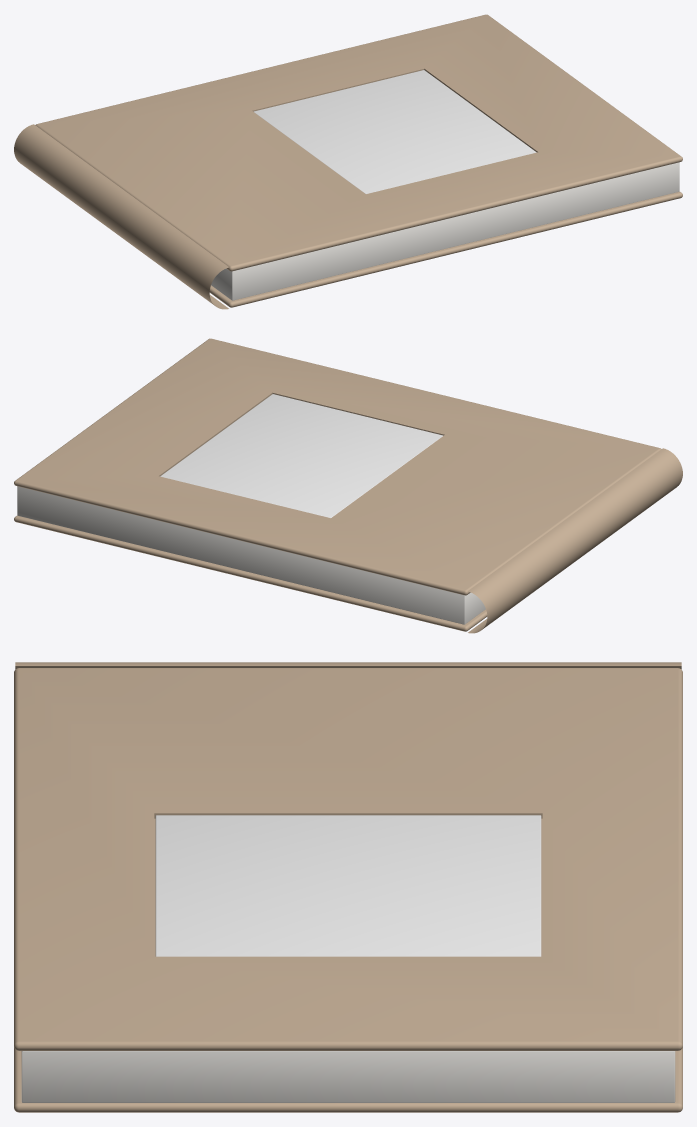
Rendered from photo-vertical--landscape.glb.
The picture shows the model from 3 angles, top to bottom: view 1: azimuth 30°, elevation 25°; view 2: azimuth 150°, elevation 25°; view 3: azimuth 270°, elevation 25°; orthographic projection. The views are drawn at different scales.
Visible parts, largest first — view 1: CoverFront, Photo, Pages, Spine, CoverBack; view 2: CoverFront, Photo, Pages, Spine, CoverBack; view 3: CoverFront, Photo, Pages, CoverBack, Spine.
Boxes of the visible parts, box(x1,y1,x2,y2) form: CoverFront: box(35, 14, 682, 271); Photo: box(253, 70, 536, 193); Pages: box(211, 162, 679, 300); Spine: box(14, 124, 228, 309); CoverBack: box(209, 191, 682, 307); CoverFront: box(14, 338, 661, 595); Photo: box(160, 394, 443, 517); Pages: box(17, 486, 485, 624); Spine: box(468, 448, 682, 633); CoverBack: box(14, 515, 487, 631); CoverFront: box(14, 668, 682, 1050); Photo: box(155, 815, 541, 956); Pages: box(21, 1051, 675, 1102); CoverBack: box(14, 1047, 682, 1112); Spine: box(15, 662, 681, 669).
Bounding box in the file's own units: 0.4179 × 0.0352 × 0.3.
